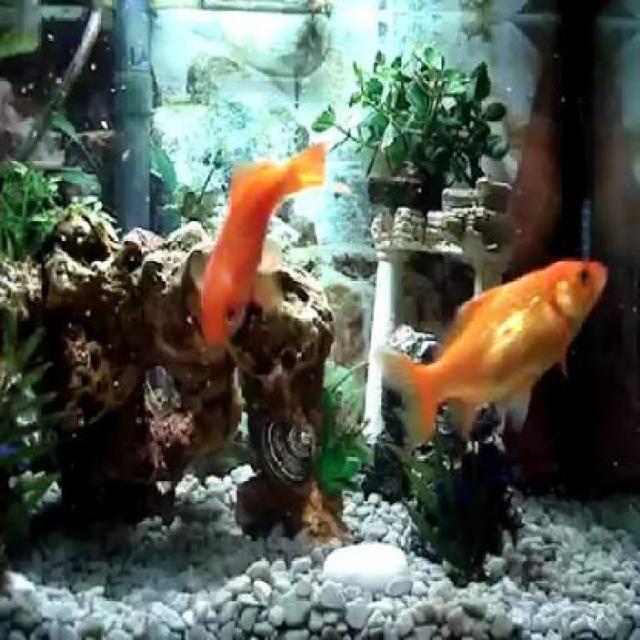GoldFish: (372, 254, 608, 446), (200, 136, 328, 349)
